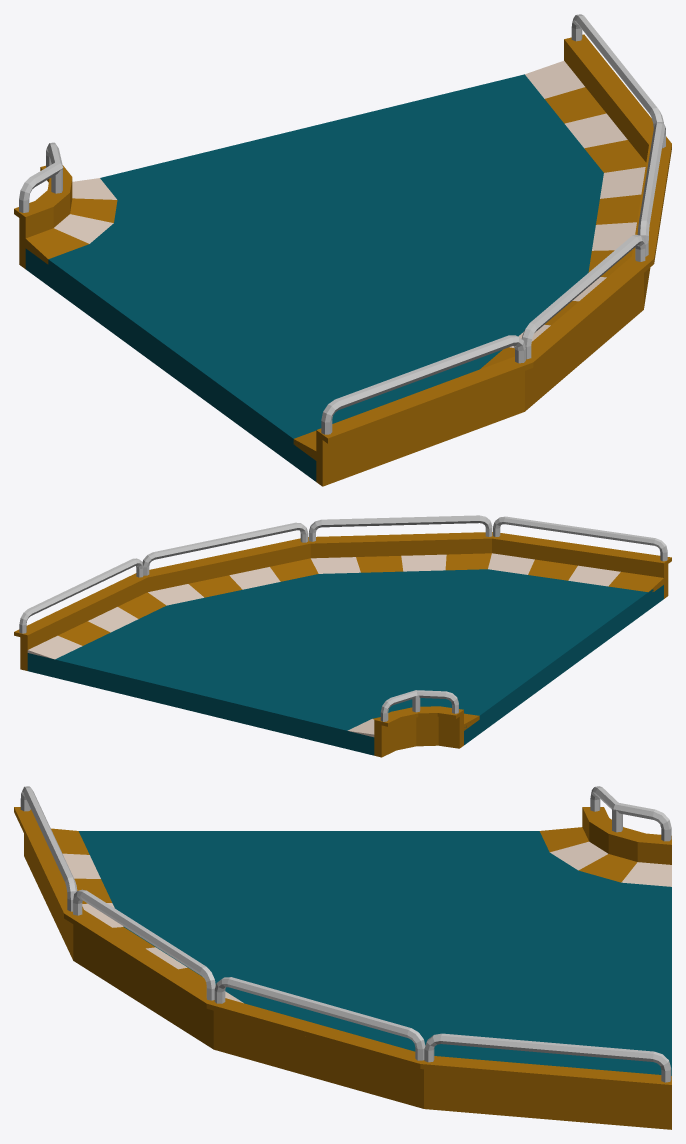
Rendered from curveRight-90_s.FBX.
3 views of the same model, one above another, from view 1: azimuth 30°, elevation 25°; view 2: azimuth 150°, elevation 25°; view 3: azimuth 270°, elevation 25° (orthographic). The views are drawn at different scales.
Parts seen in each view (by area): view 1: curveRight-90_s, wall_l, curbs_l, curbs_r, wall_r; view 2: curveRight-90_s, wall_l, curbs_l, wall_r, curbs_r; view 3: curveRight-90_s, wall_l, wall_r, curbs_r, curbs_l.
Part boxes in pixels (left/top/right/bottom): curveRight-90_s: left=25, top=74, right=603, bottom=481; wall_l: left=316, top=14, right=671, bottom=486; curbs_l: left=293, top=61, right=646, bottom=460; curbs_r: left=25, top=178, right=117, bottom=264; wall_r: left=14, top=142, right=72, bottom=268; curveRight-90_s: left=27, top=569, right=663, bottom=755; wall_l: left=14, top=515, right=671, bottom=670; curbs_l: left=27, top=553, right=663, bottom=659; wall_r: left=374, top=690, right=463, bottom=757; curbs_r: left=347, top=713, right=479, bottom=737; curveRight-90_s: left=78, top=831, right=671, bottom=1075; wall_l: left=14, top=786, right=671, bottom=1129; wall_r: left=582, top=786, right=671, bottom=864; curbs_r: left=539, top=827, right=671, bottom=886; curbs_l: left=51, top=828, right=243, bottom=1003.
Size of what is drawn, in the model's own units: 231 by 29.31 by 231.
